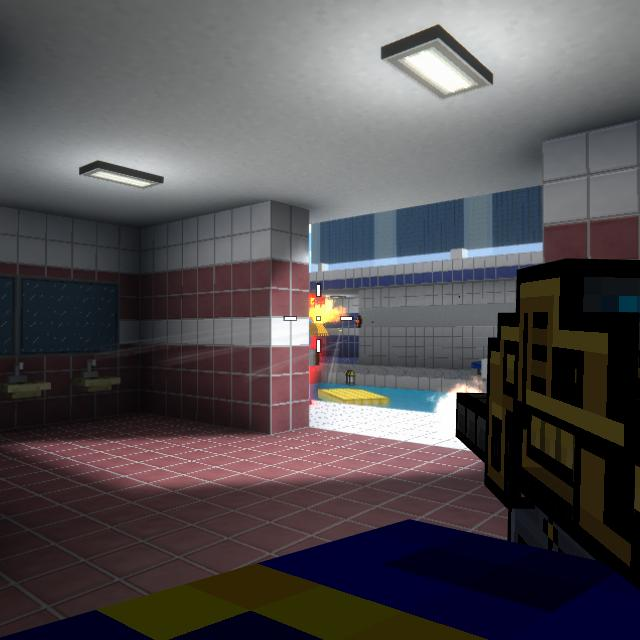Enemy: (309, 316, 320, 405)
